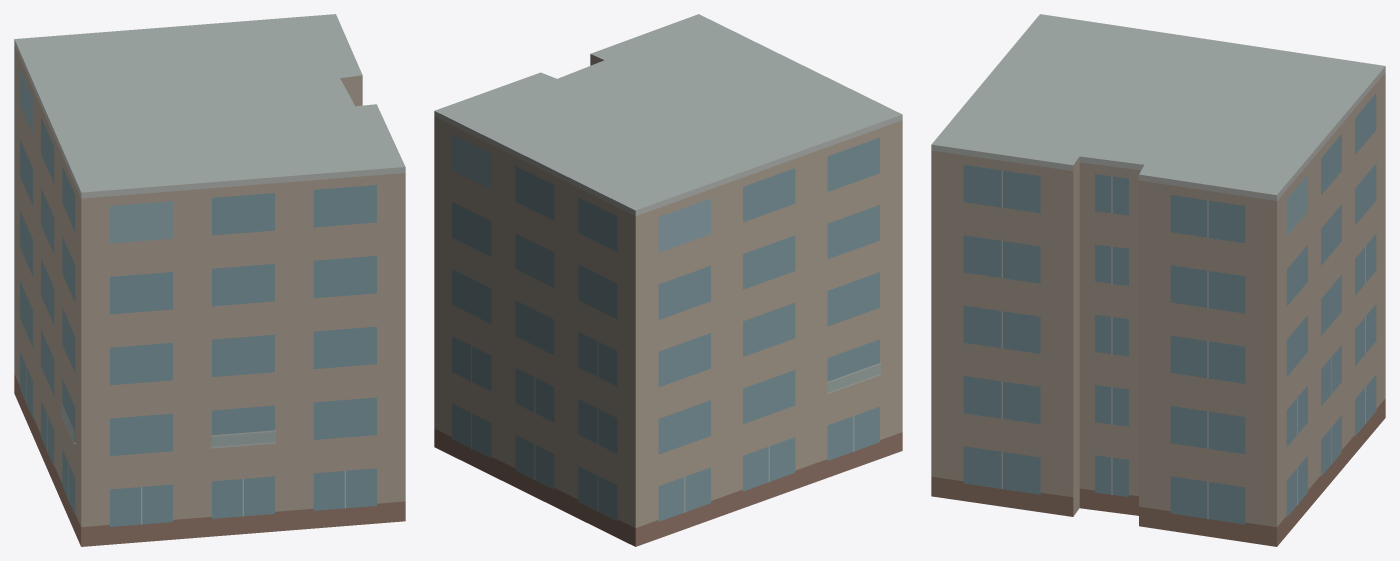
File: survey-upis-32514174.glb
The picture shows the model from 3 angles, left to right: view 1: azimuth 30°, elevation 25°; view 2: azimuth 150°, elevation 25°; view 3: azimuth 270°, elevation 25°; orthographic projection. The views are drawn at different scales.
Visible parts, largest first — view 1: survey-upis-32514174.tmp; view 2: survey-upis-32514174.tmp; view 3: survey-upis-32514174.tmp.
Part boxes in pixels (box(x1,y1,x2,y2)): survey-upis-32514174.tmp: box(14, 14, 405, 546); survey-upis-32514174.tmp: box(434, 14, 902, 546); survey-upis-32514174.tmp: box(931, 14, 1385, 546).
Size of the model in its own units: 16.03 by 14.5 by 16.99.
